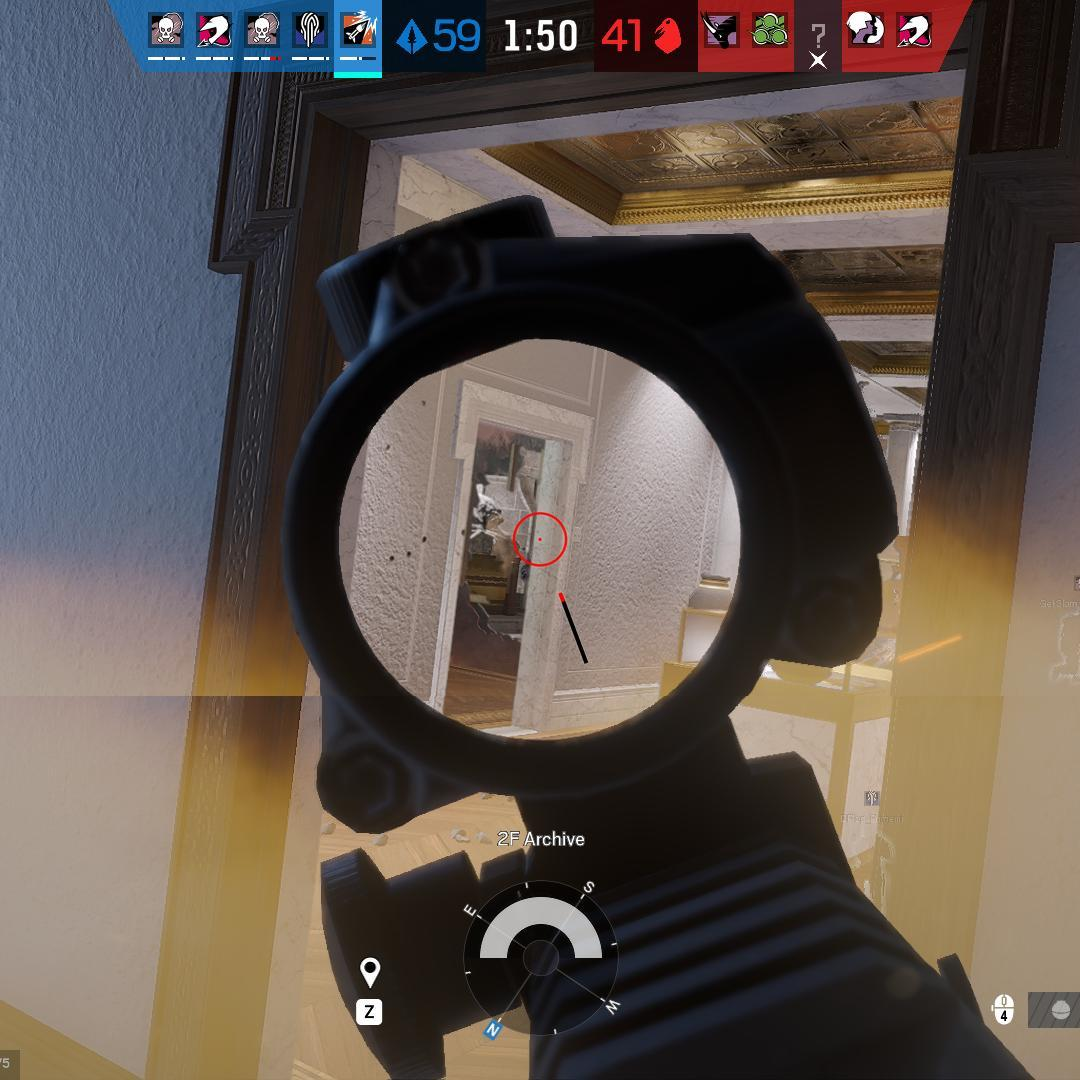Friend_label: (836, 786, 904, 829), (1036, 571, 1080, 612)
